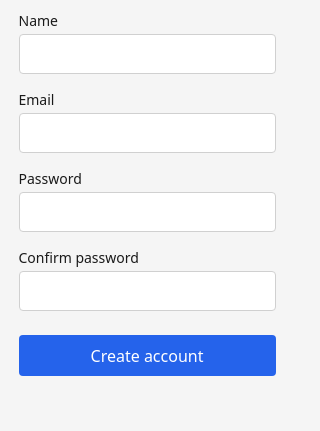
Test: RegisterForm › shows an "email already registered" error on a 409 response
In the field labelled "Name": [147, 54] box 18,34 -> 276,74, type "Ada Lovelace"
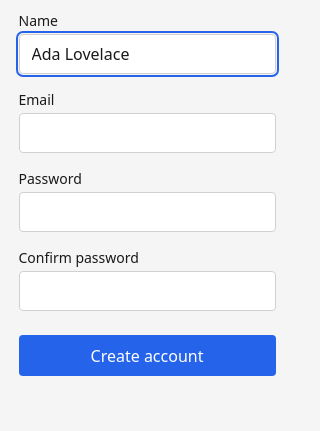
In the field labelled "Email": [147, 133] box 18,113 -> 276,153, type "ada@example.com"
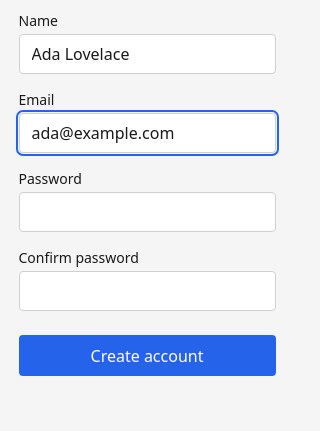
In the password field labelled "Password": [147, 212] box 18,192 -> 276,232, type "super-secret"
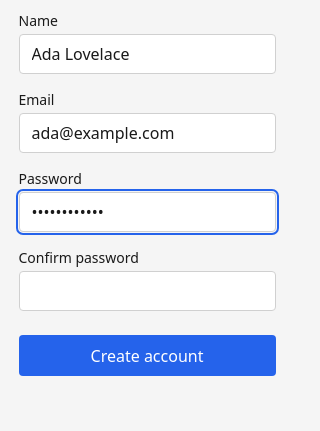
In the password field labelled "Confirm password": [147, 291] box 18,271 -> 276,311, type "super-secret"
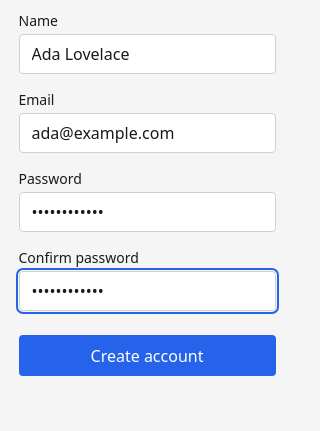
Click the button "Create account": [147, 356] box 18,335 -> 276,376
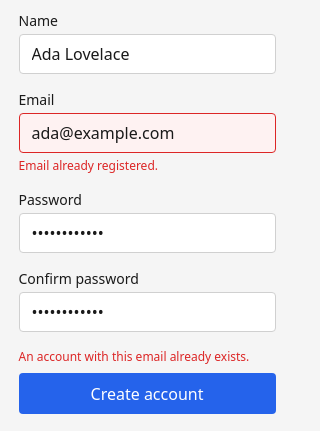
Now the text "Email already registered." is shown, box 18,157 -> 158,174
